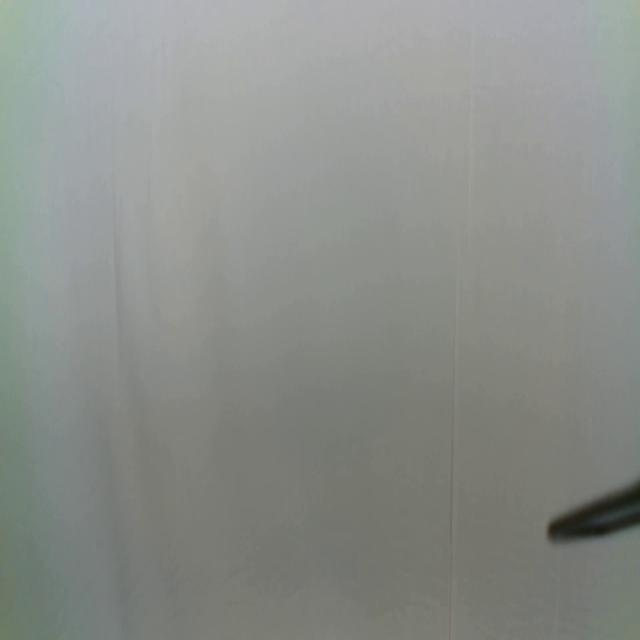crease: (447, 242, 462, 640), (466, 0, 476, 259)
